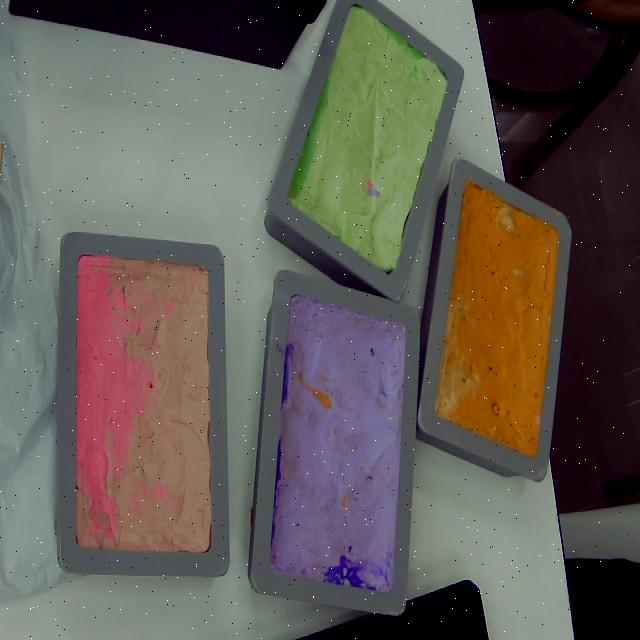block: (54, 231, 231, 579), (263, 0, 463, 307), (244, 270, 418, 617), (411, 157, 574, 485)
